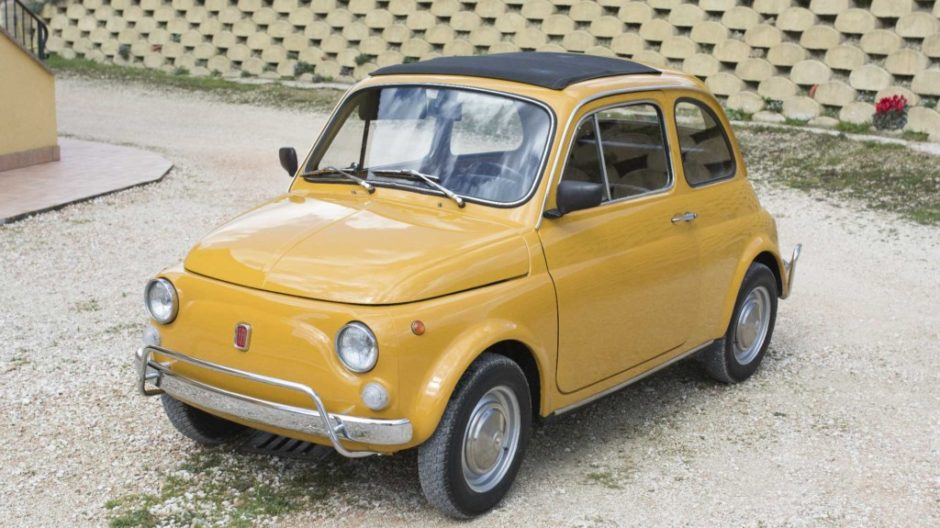car: (133, 50, 806, 525)
